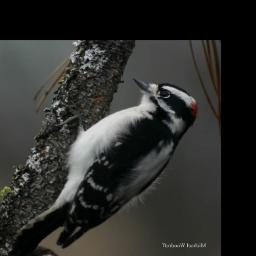Woodpecker: (11, 78, 198, 256)
